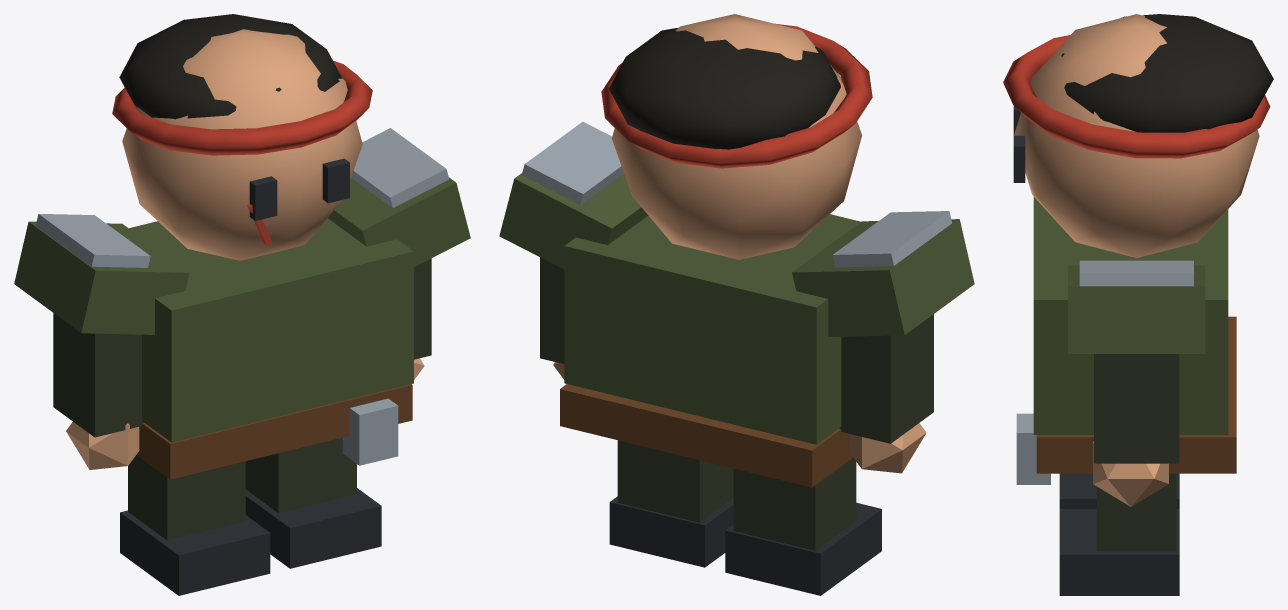
Rendered from gald.glb.
The picture shows the model from 3 angles, left to right: view 1: azimuth 30°, elevation 25°; view 2: azimuth 150°, elevation 25°; view 3: azimuth 270°, elevation 25°; orthographic projection. The views are drawn at different scales.
Visible parts, largest first — view 1: torso, head, legR, legL, armR, armL; view 2: torso, head, legR, legL, armR, armL; view 3: head, torso, armL, legL, legR.
Part boxes in pixels (x1=…): torso: x1=14, y1=128, x2=470, y2=479; head: x1=112, y1=14, x2=372, y2=260; legR: x1=120, y1=455, x2=270, y2=595; legL: x1=245, y1=437, x2=381, y2=568; armR: x1=53, y1=313, x2=144, y2=469; armL: x1=414, y1=258, x2=431, y2=379; torso: x1=499, y1=121, x2=974, y2=487; head: x1=601, y1=14, x2=872, y2=259; legR: x1=725, y1=458, x2=881, y2=595; legL: x1=609, y1=440, x2=733, y2=567; armR: x1=839, y1=314, x2=933, y2=473; armL: x1=540, y1=257, x2=564, y2=379; head: x1=1003, y1=14, x2=1273, y2=257; torso: x1=1016, y1=196, x2=1236, y2=484; armL: x1=1093, y1=354, x2=1179, y2=506; legL: x1=1059, y1=473, x2=1179, y2=595; legR: x1=1059, y1=473, x2=1179, y2=508.
Size of the model in its own units: 0.8999 by 1.13 by 0.5307.
